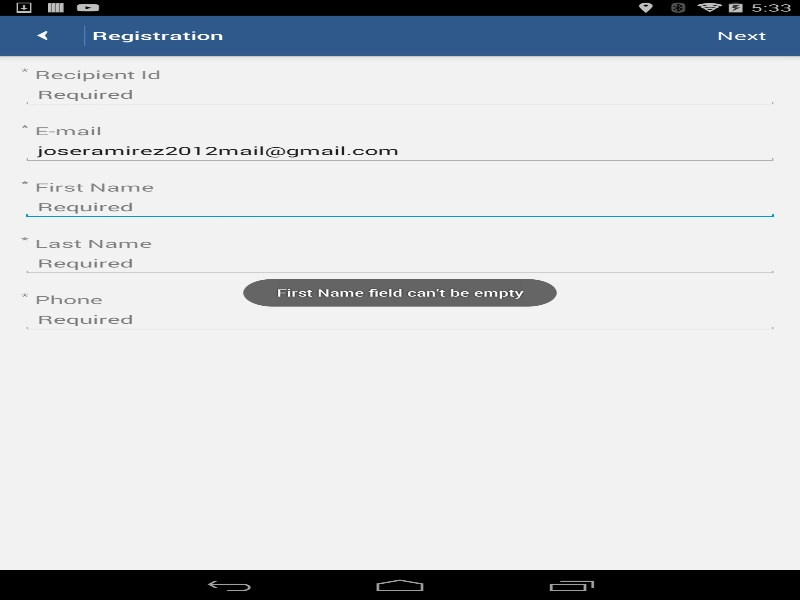Button: (682, 15, 800, 55)
Input: (21, 138, 778, 163), (21, 194, 778, 219), (21, 250, 778, 275), (21, 82, 778, 106), (21, 307, 778, 331)
